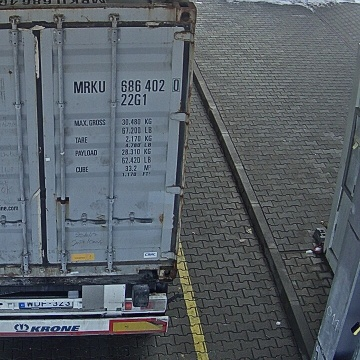serial_id: (74, 79, 179, 92)
